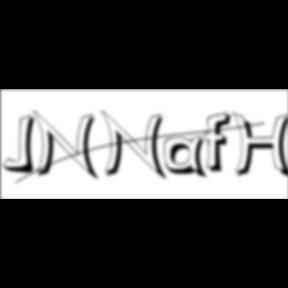J: (3, 114, 42, 176)
N: (33, 109, 103, 183), (101, 109, 171, 183)
a: (164, 135, 212, 182)
f: (205, 111, 238, 175)
